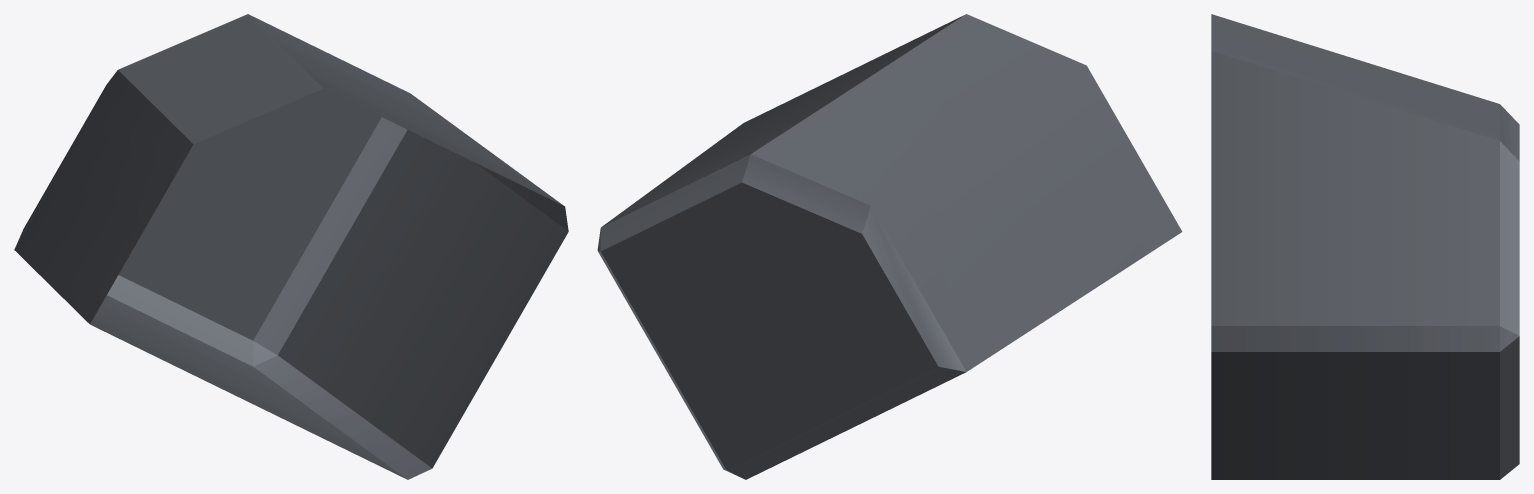
Rendered from Debris 06.FBX.
3 views of the same model, side by side, from view 1: azimuth 30°, elevation 25°; view 2: azimuth 150°, elevation 25°; view 3: azimuth 270°, elevation 25° (orthographic). The views are drawn at different scales.
Parts seen in each view (by area): view 1: Debris 06; view 2: Debris 06; view 3: Debris 06.
Boxes of the visible parts, x1=… form: Debris 06: x1=14, y1=14, x2=568, y2=479; Debris 06: x1=597, y1=14, x2=1182, y2=479; Debris 06: x1=1211, y1=14, x2=1519, y2=479.
Bounding box in the file's own units: 85.73 × 70.48 × 51.24.
